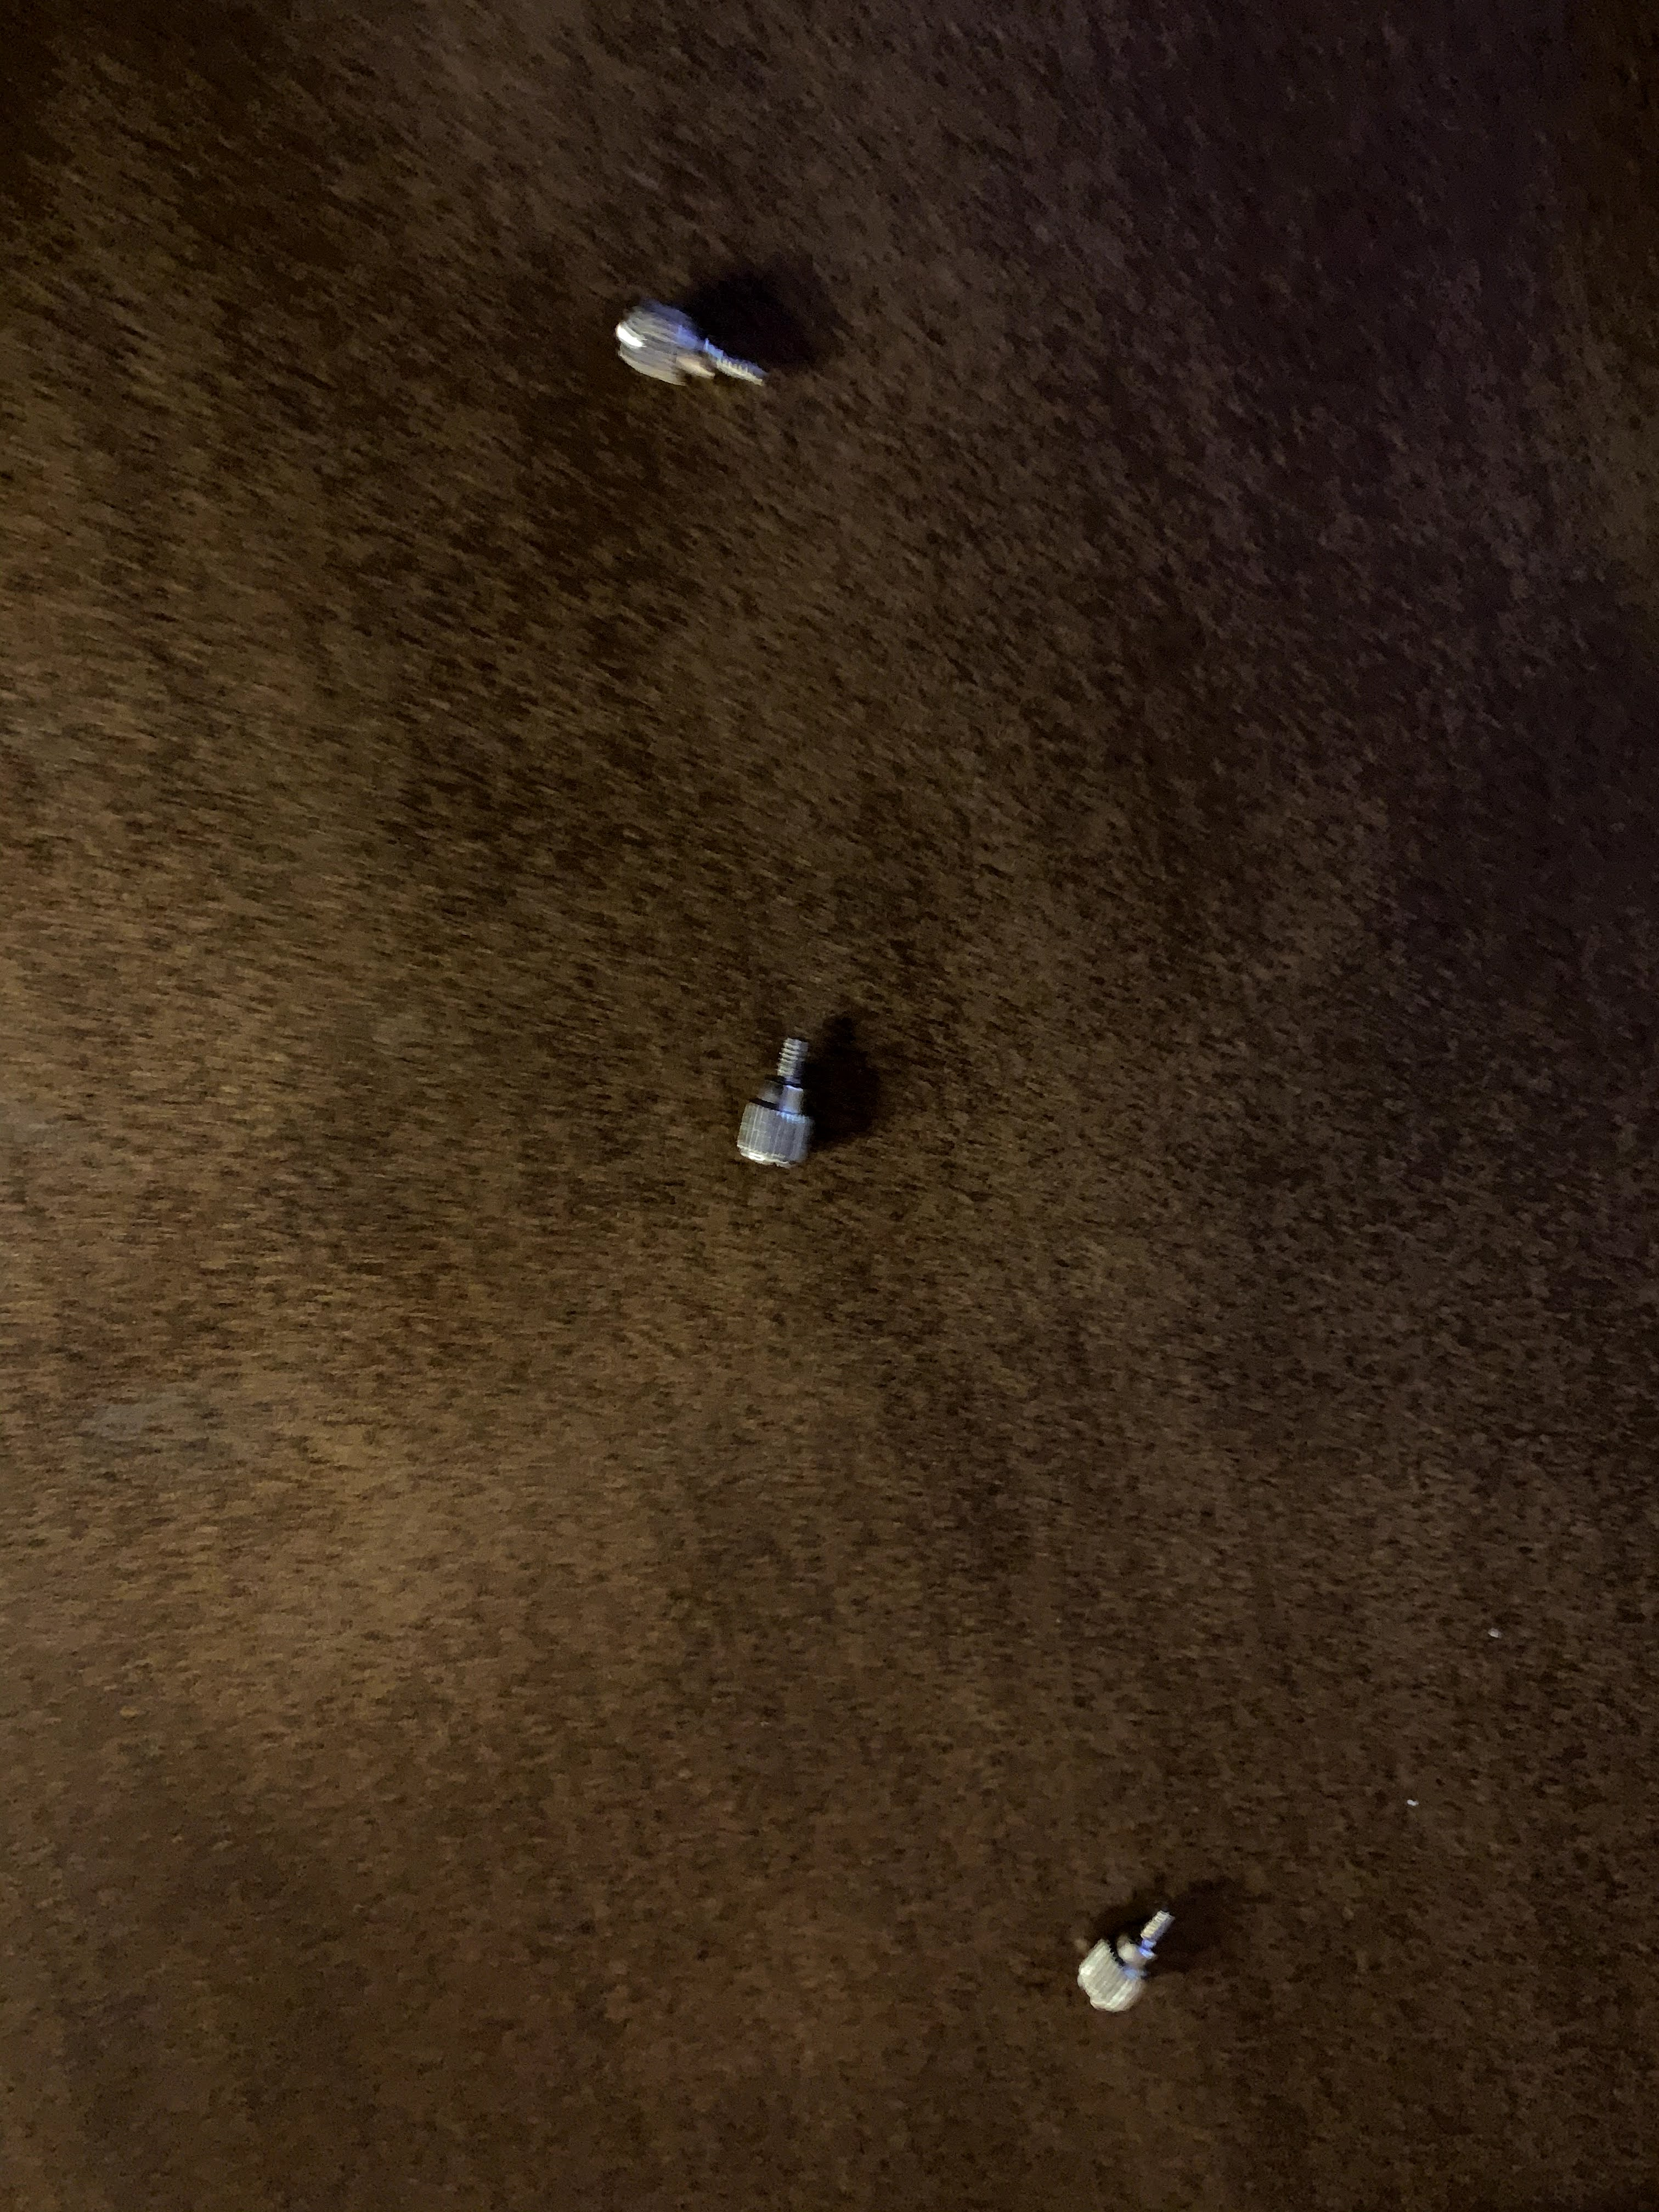Space-debris-small: (601, 300, 781, 416), (728, 1021, 833, 1188), (1065, 1893, 1176, 2019)
